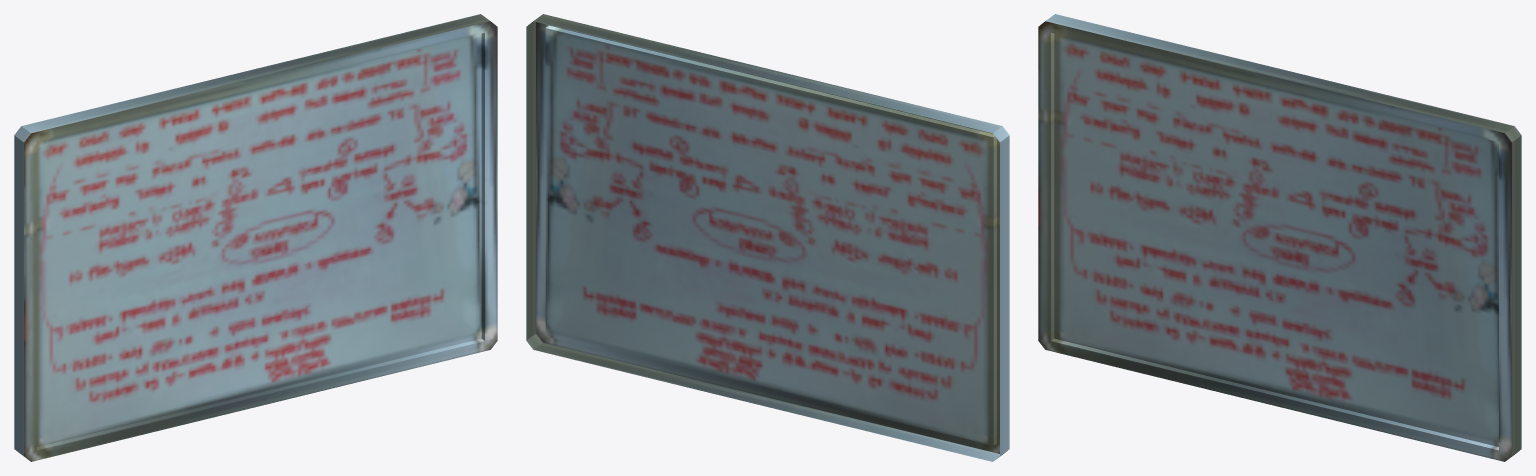
The model's file is drug_dealer_whiteboard.FBX.
3 views of the same model, side by side, from view 1: azimuth 30°, elevation 25°; view 2: azimuth 150°, elevation 25°; view 3: azimuth 330°, elevation 25° (orthographic).
Visible parts, largest first — view 1: dealer_whiteboard; view 2: dealer_whiteboard; view 3: dealer_whiteboard.
Boxes of the visible parts, x1,y1,x2,y2 form: dealer_whiteboard: (14,14,497,461); dealer_whiteboard: (526,14,1009,461); dealer_whiteboard: (1038,14,1521,461).
Bounding box in the file's own units: 31.06 × 20.59 × 1.12.
